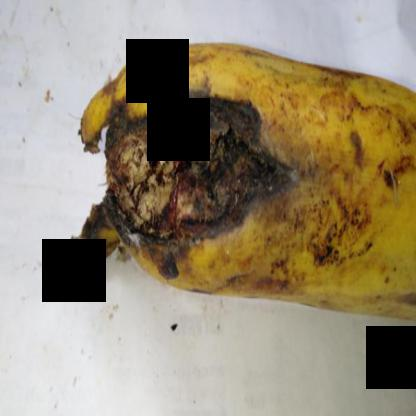ripe: (285, 43, 415, 356)
rotten: (77, 70, 300, 266)
